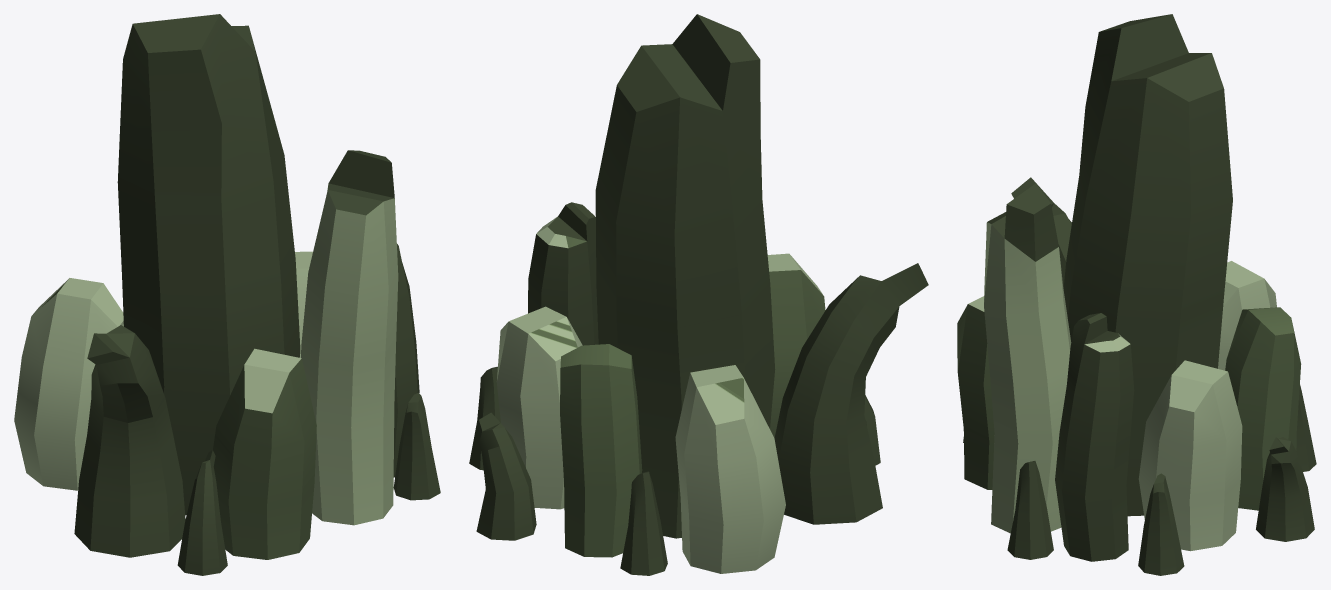
The model's file is EA_Swamp_Root_05d.glb.
3 renders of one model, left to right at view 1: azimuth 30°, elevation 25°; view 2: azimuth 150°, elevation 25°; view 3: azimuth 270°, elevation 25°, orthographic. The views are drawn at different scales.
Parts seen in each view (by area): view 1: EA_Swamp_Root_05d; view 2: EA_Swamp_Root_05d; view 3: EA_Swamp_Root_05d.
Part boxes in pixels (bbox=[...]): EA_Swamp_Root_05d: bbox=[14, 14, 440, 575]; EA_Swamp_Root_05d: bbox=[469, 14, 928, 575]; EA_Swamp_Root_05d: bbox=[957, 14, 1316, 575].
Size of the model in its own units: 1.5 by 1.78 by 1.27.
Materials: 1 (1 with a texture image).
